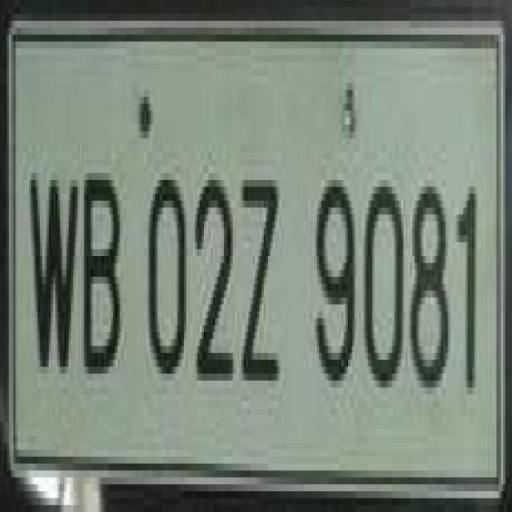number plate: (15, 35, 512, 478)
